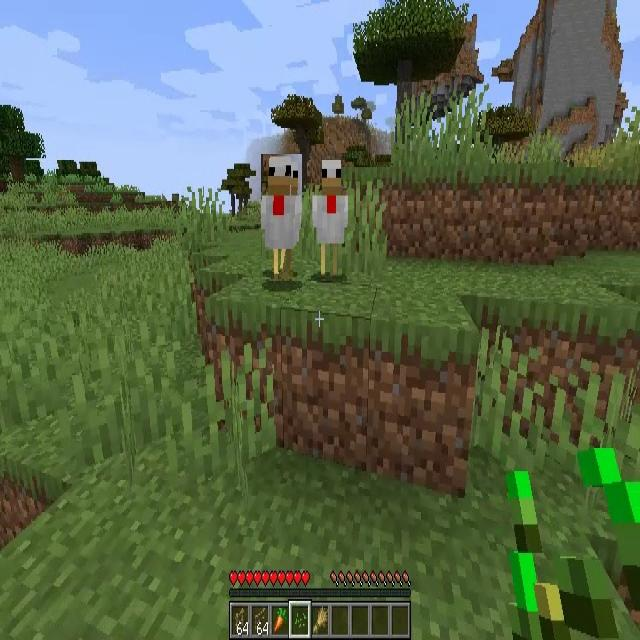duck: (261, 154, 302, 281), (312, 156, 349, 282)
